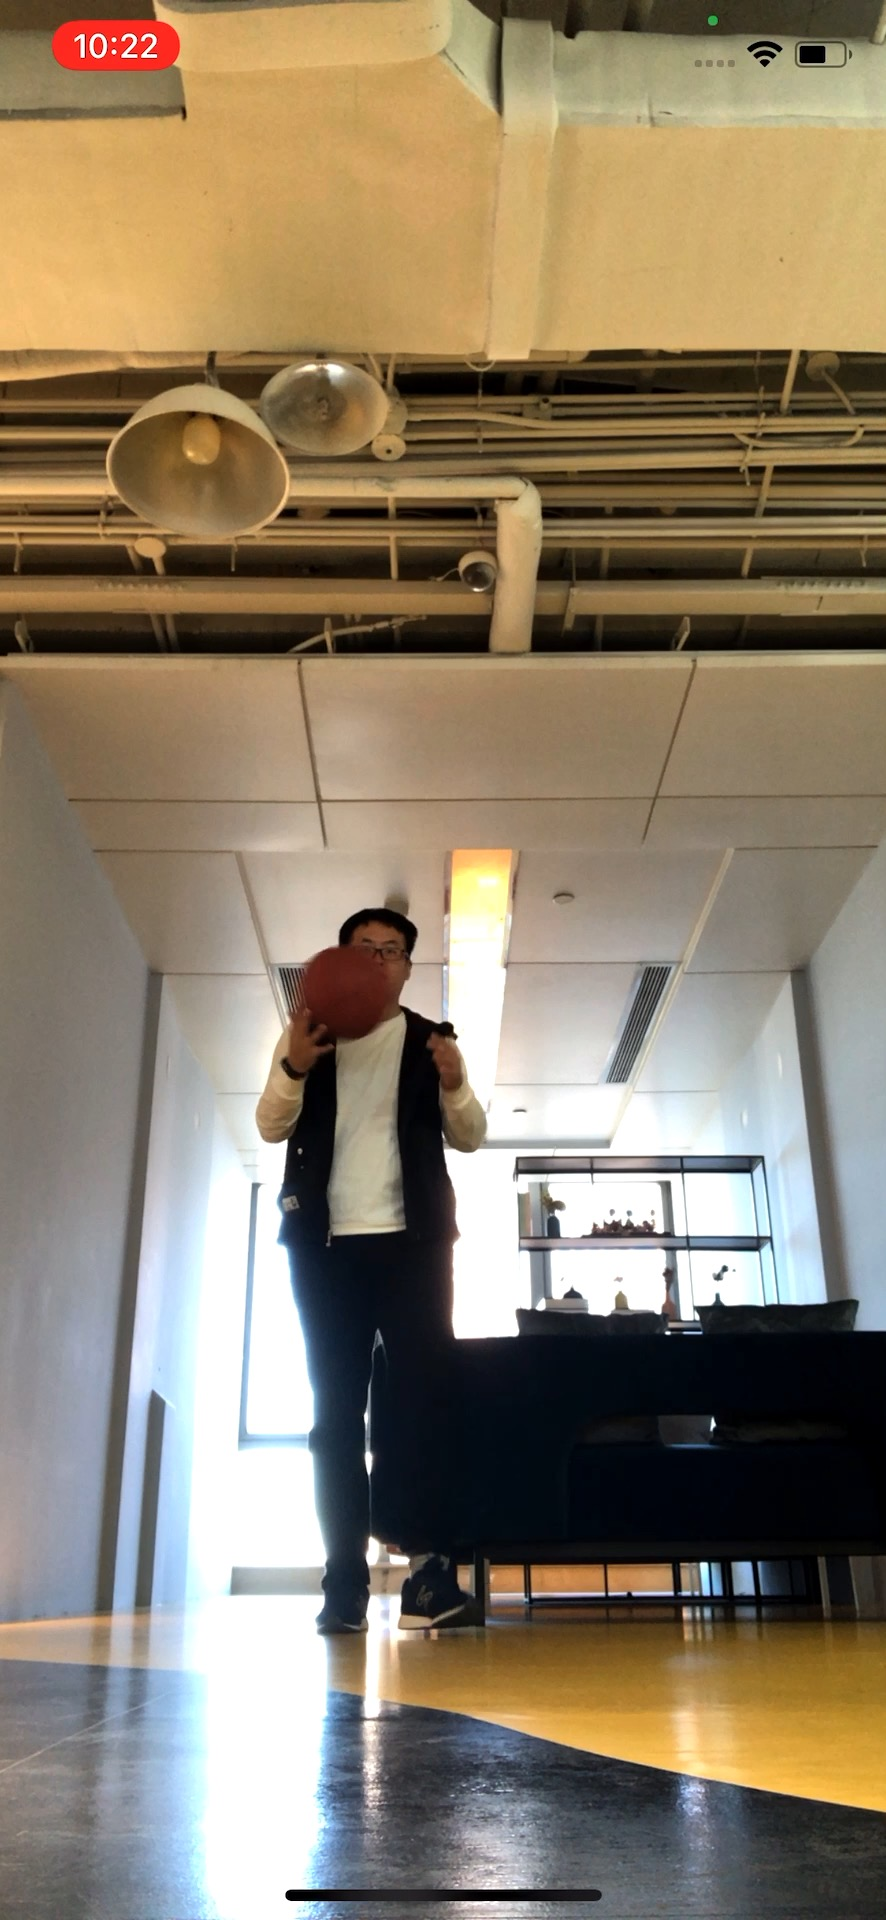ball: (296, 945, 394, 1040)
